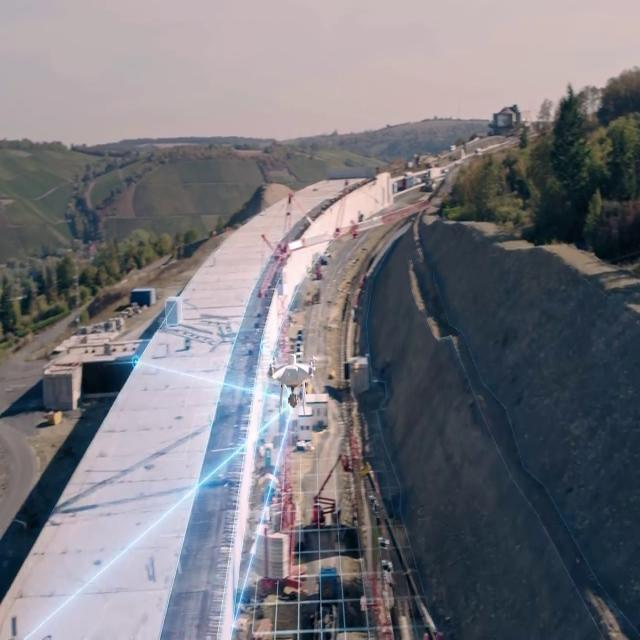drone: (264, 348, 330, 416)
